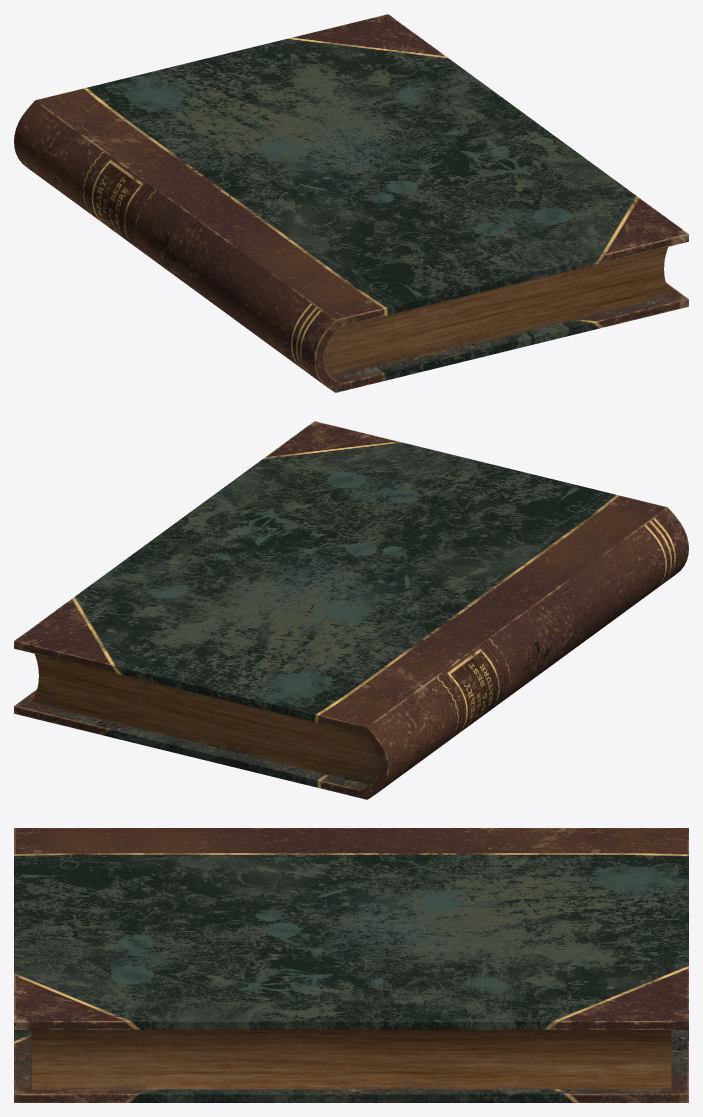
The model's file is livro.glb.
3 views of the same model, one above another, from view 1: azimuth 30°, elevation 25°; view 2: azimuth 150°, elevation 25°; view 3: azimuth 270°, elevation 25° (orthographic). The views are drawn at different scales.
Visible parts, largest first — view 1: pCube2; view 2: pCube2; view 3: pCube2.
Boxes of the visible parts, bbox=[...] form: pCube2: bbox=[14, 14, 688, 392]; pCube2: bbox=[14, 421, 688, 799]; pCube2: bbox=[14, 828, 688, 1102].
Size of the model in its own units: 0.3918 by 0.0727 by 0.545.
1 material, 1 textured.
